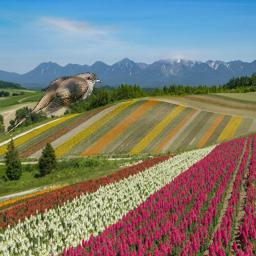Cuckoo: (4, 72, 103, 136)
